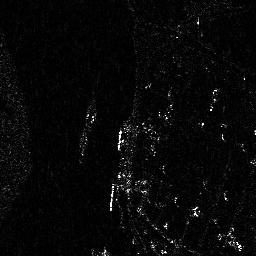ship: (76, 97, 97, 163)
